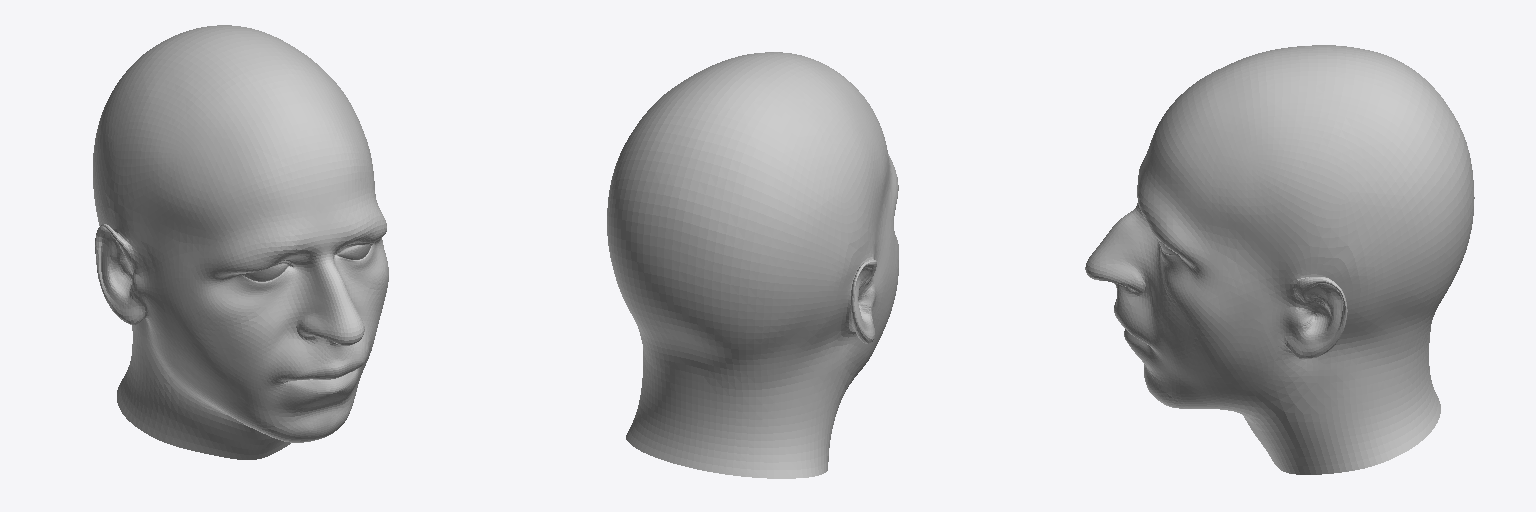
The model's file is akhilobj.obj.
The picture shows the model from 3 angles: view 1: azimuth 30°, elevation 25°; view 2: azimuth 150°, elevation 25°; view 3: azimuth 270°, elevation 25°; orthographic projection.
Parts seen in each view (by area): view 1: FaceBuilderHead_FaceBuilderHead_mesh; view 2: FaceBuilderHead_FaceBuilderHead_mesh; view 3: FaceBuilderHead_FaceBuilderHead_mesh.
Part boxes in pixels (x1,y1,x2,y2): FaceBuilderHead_FaceBuilderHead_mesh: (93,25,388,459); FaceBuilderHead_FaceBuilderHead_mesh: (607,52,898,478); FaceBuilderHead_FaceBuilderHead_mesh: (1085,45,1474,474).
Bounding box in the file's own units: 1.58 × 2.41 × 2.13.